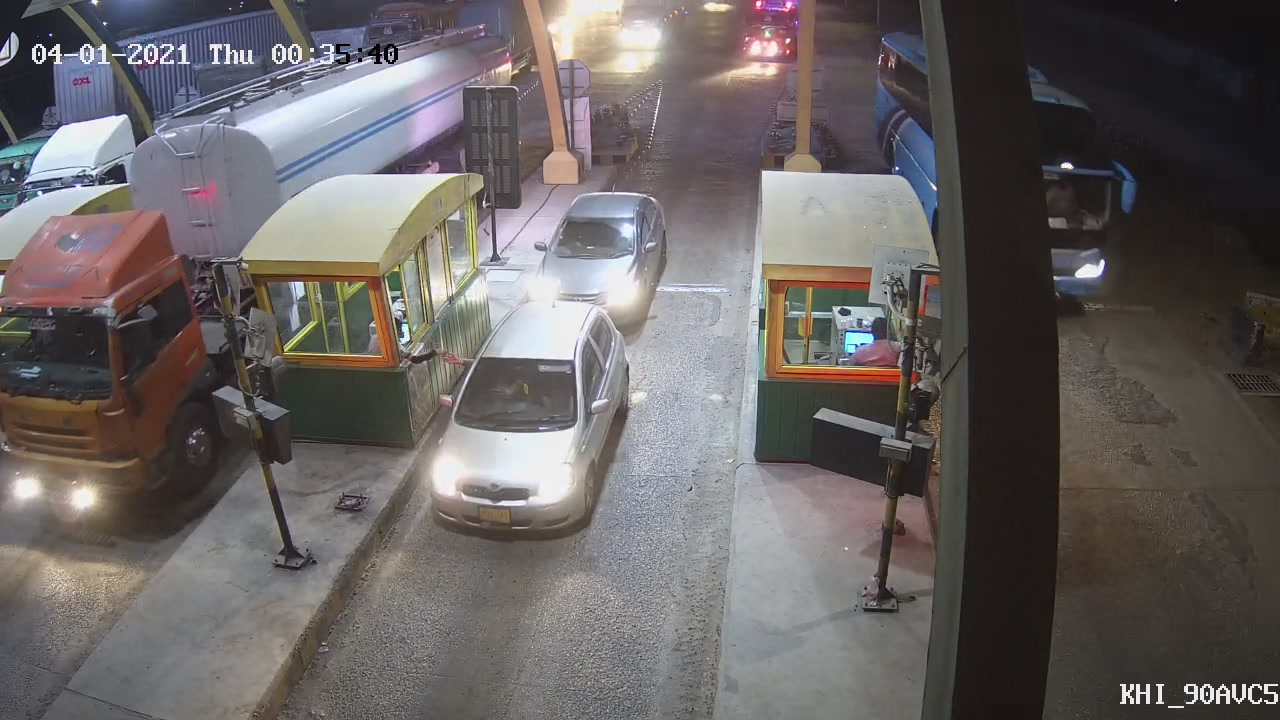F1: (417, 301, 635, 564), (517, 190, 669, 327)
